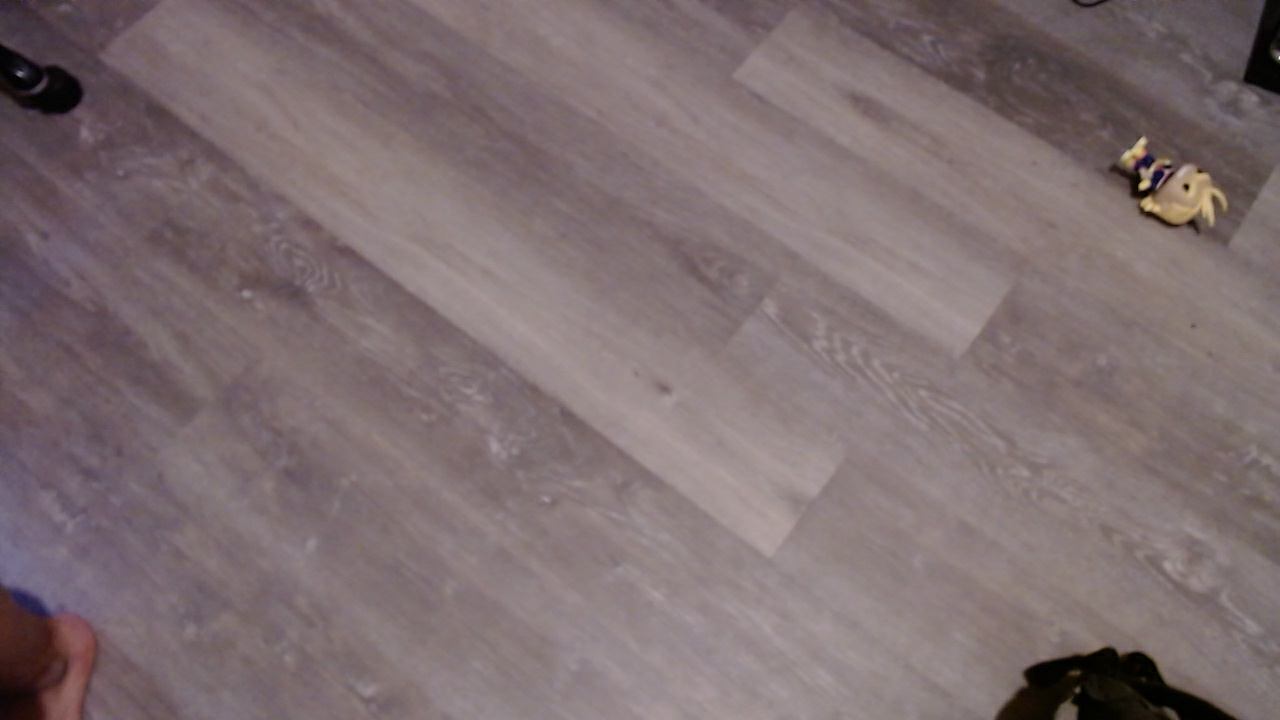all_might: (1114, 138, 1240, 244)
